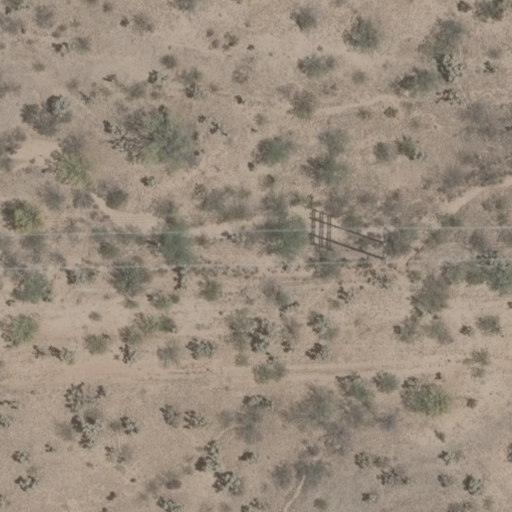TT: (306, 212, 388, 264)
